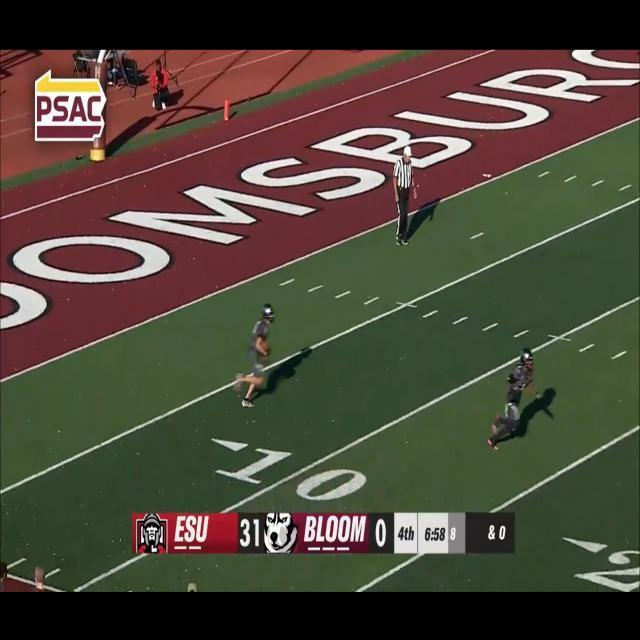football: (259, 338, 273, 356)
